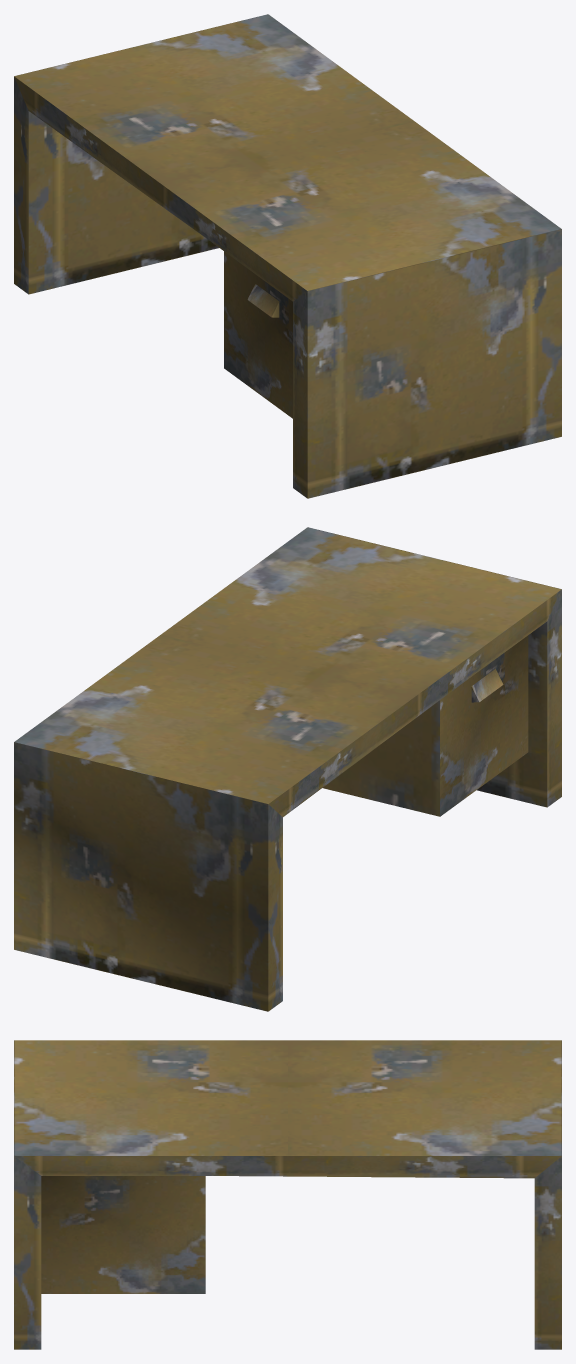
File: Table_Metal.glb
3 renders of one model, top to bottom at view 1: azimuth 30°, elevation 25°; view 2: azimuth 150°, elevation 25°; view 3: azimuth 270°, elevation 25°, orthographic. The views are drawn at different scales.
Visible parts, largest first — view 1: TABLE_METAL; view 2: TABLE_METAL; view 3: TABLE_METAL.
Part boxes in pixels (x1=…): TABLE_METAL: x1=14, y1=14, x2=561, y2=498; TABLE_METAL: x1=14, y1=527, x2=561, y2=1011; TABLE_METAL: x1=14, y1=1040, x2=561, y2=1349.
Bounding box in the file's own units: 1 × 0.78 × 2.
Materials: 1 (1 with a texture image).
